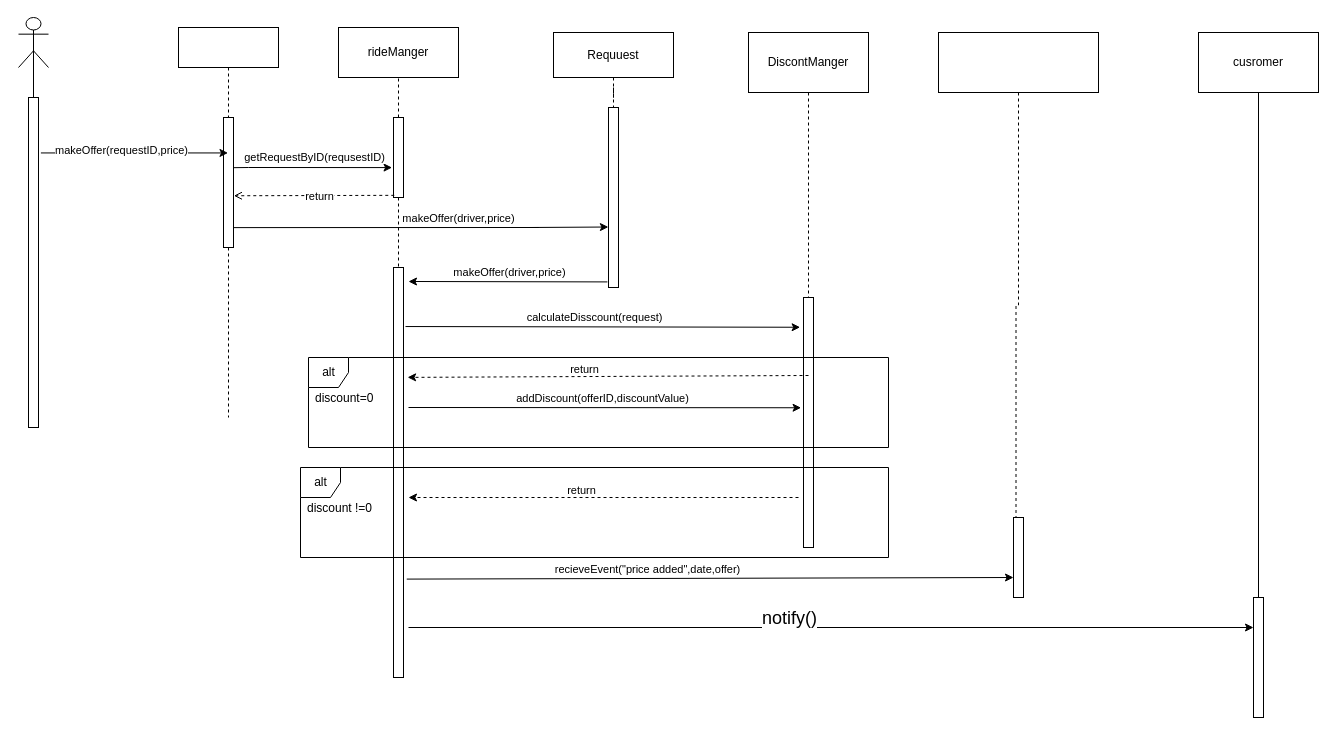
The diagram is 1336 pixels wide and 735 high, and some of its shapes have lost their labels. Each missing label, with the centre of its shape:
API: the point at 228,222
Driver: the point at 33,42
EventManager: the point at 1018,62
